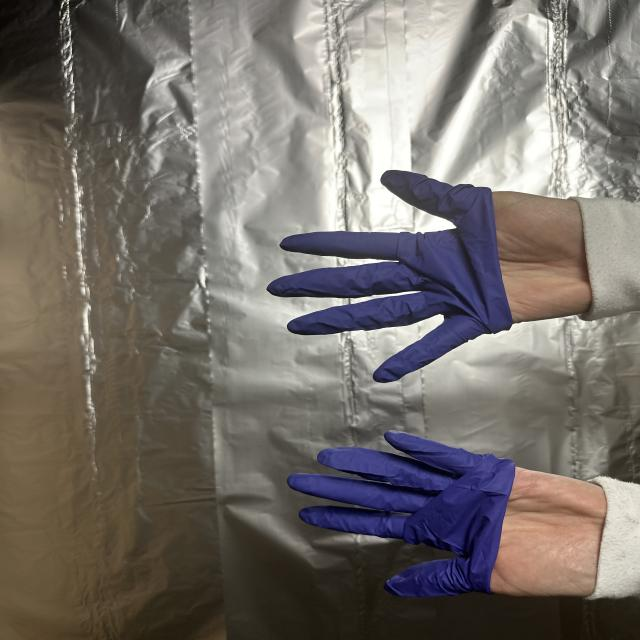glove_partial: (263, 167, 600, 385), (283, 430, 606, 605)
